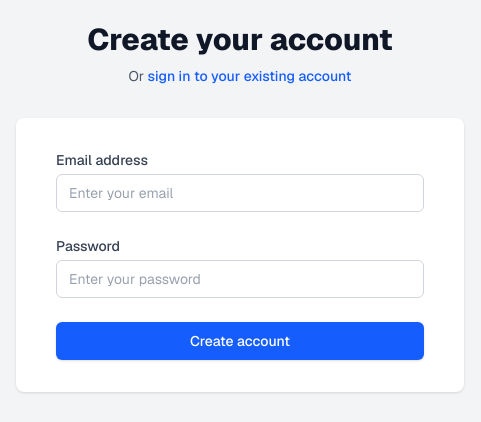
Test case: Register Page › should show real-time email validation
In the field labelled "Email address": coordinates (240, 193) [56, 174, 424, 212], type "test@example.com"
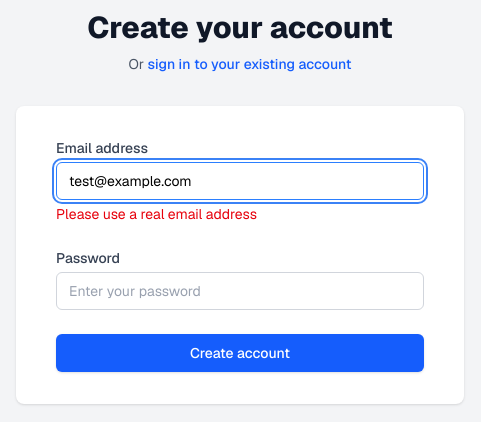
Expected: the text "Please use a real email address" is shown, [56, 205, 257, 223]
